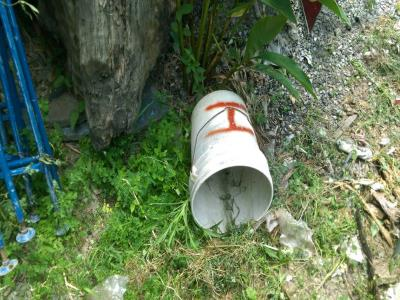bucket: (182, 87, 279, 239)
